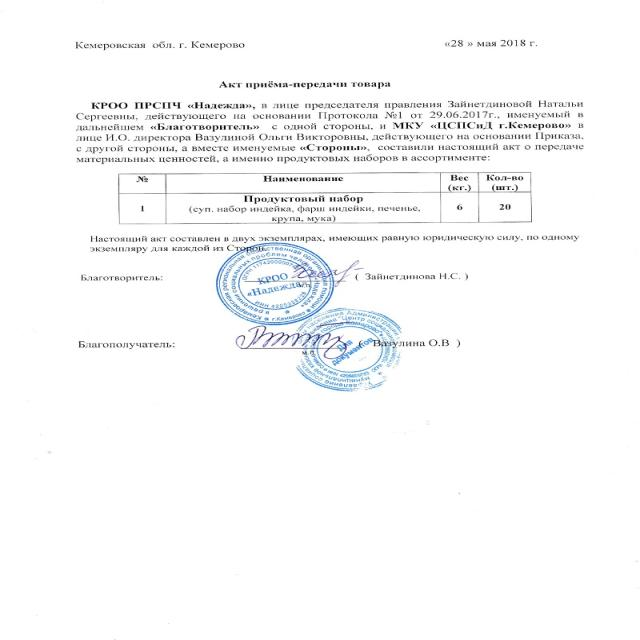stamps: (296, 309, 450, 404), (212, 233, 348, 320)
